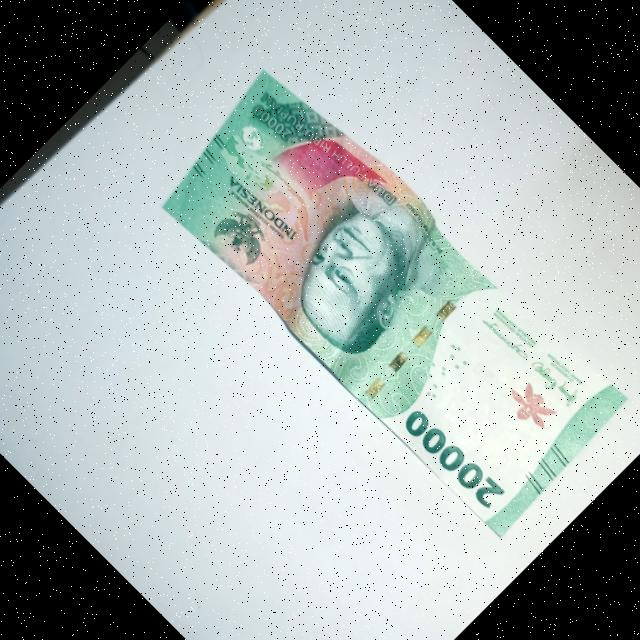20K: (135, 43, 640, 555)
